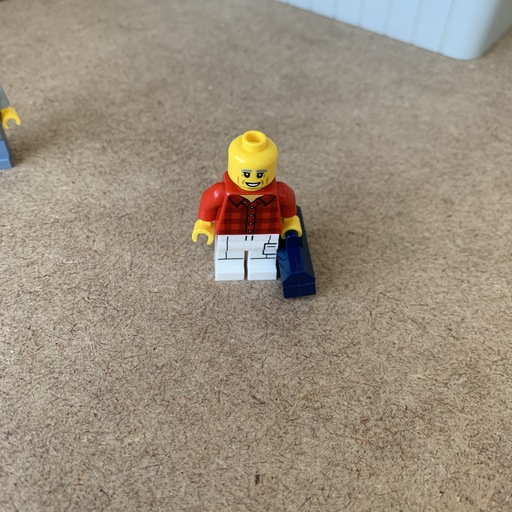human: (180, 121, 323, 297), (1, 80, 28, 171)
